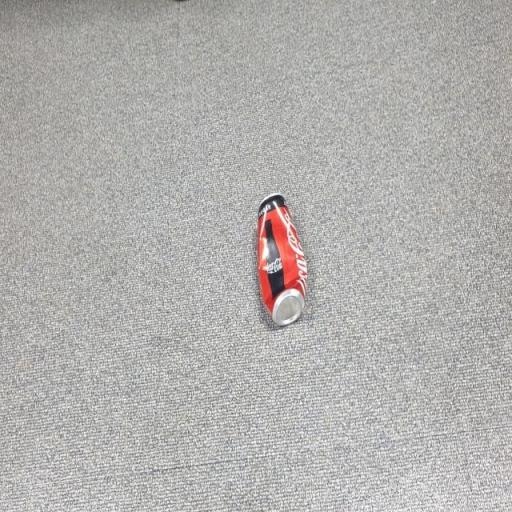metal: (248, 180, 314, 344)
